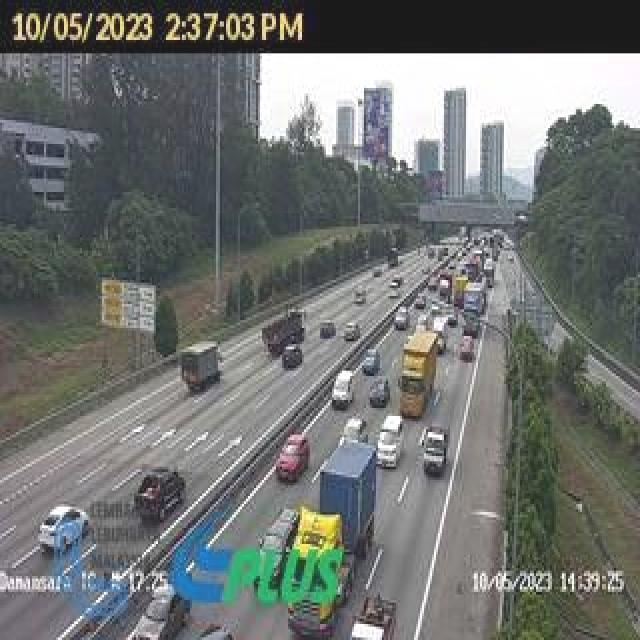Car: (257, 508, 300, 590), (126, 584, 186, 639), (134, 468, 186, 524), (38, 504, 90, 553), (268, 423, 312, 479), (349, 591, 397, 639), (376, 416, 405, 466), (421, 424, 449, 475), (331, 370, 356, 410), (341, 415, 367, 445), (369, 378, 390, 408), (362, 347, 381, 375), (282, 344, 303, 369), (462, 314, 480, 338), (458, 335, 474, 361), (394, 306, 409, 330), (319, 321, 336, 339), (344, 322, 360, 341), (414, 294, 426, 309), (354, 287, 365, 303), (390, 276, 402, 290), (373, 266, 383, 277)
Truck: (284, 432, 376, 629), (397, 329, 446, 415), (175, 337, 224, 389), (262, 304, 312, 353)
